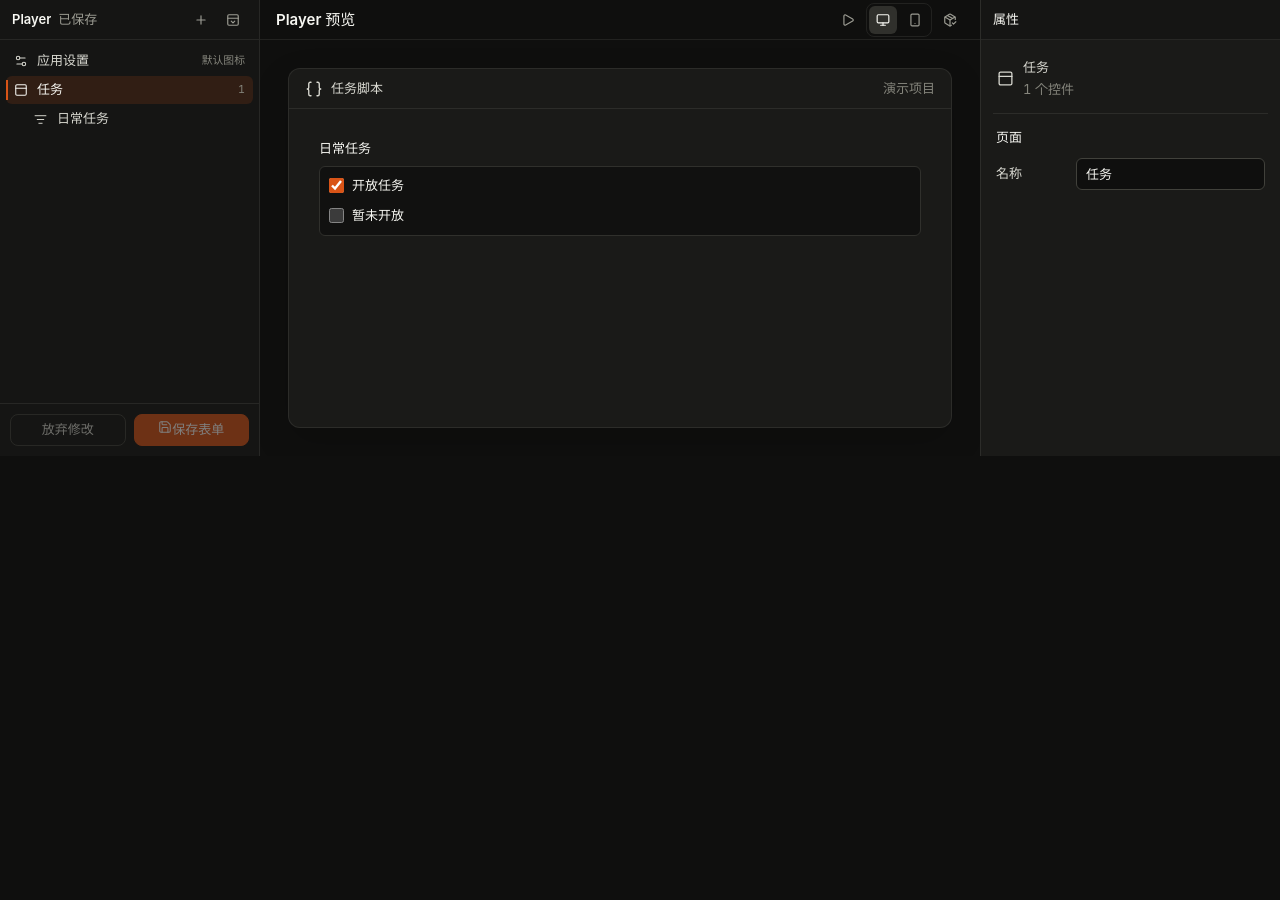
VNextPlayerWorkspace schema3 authoring › 布尔字典选项可在设计器中设为固定必选或固定不可选
Click the button with class "control-row" at [130, 119], box [6,105,253,133]
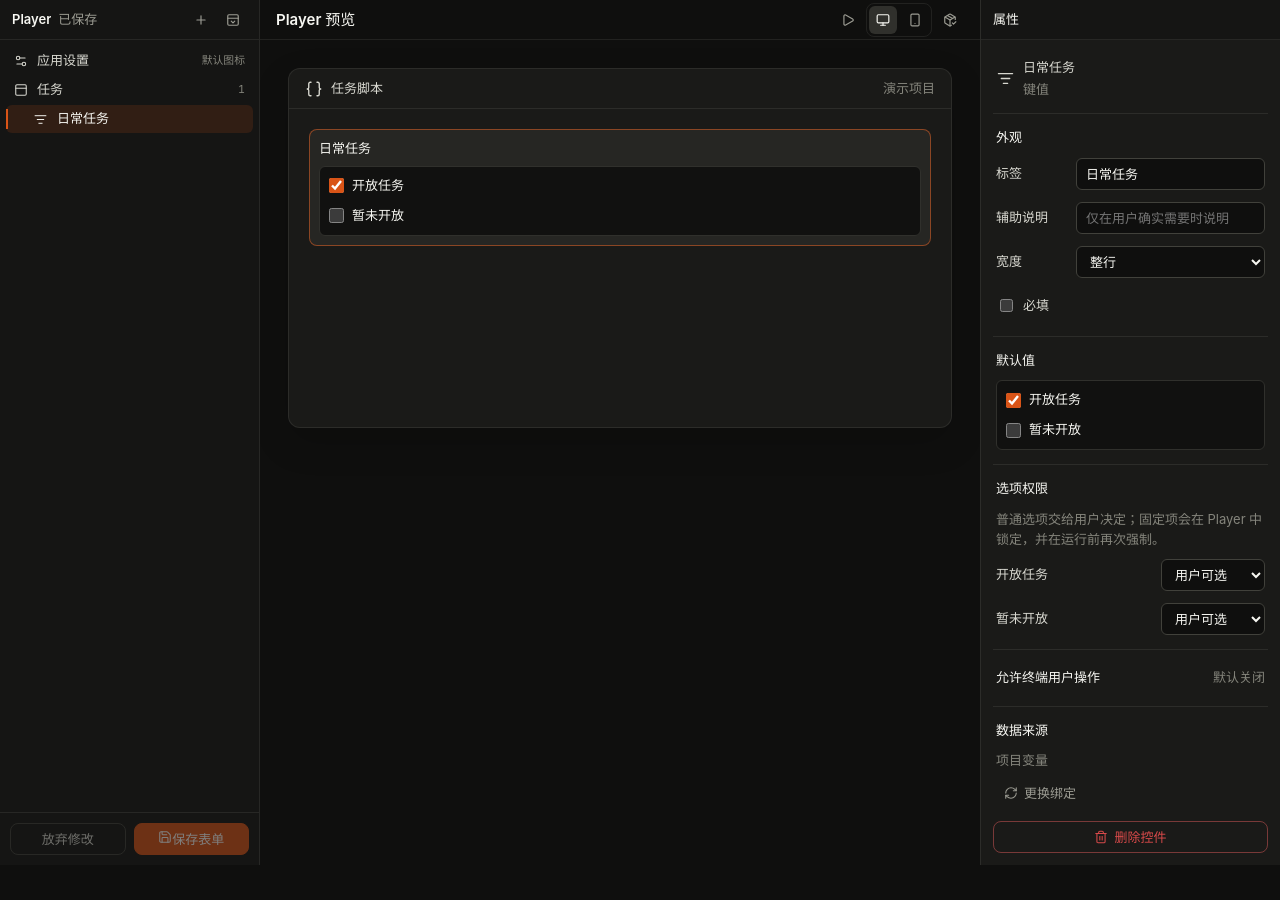
Select "固定不可选" in the dropdown labelled "暂未开放" at [1213, 619], box [1161,603,1265,635]
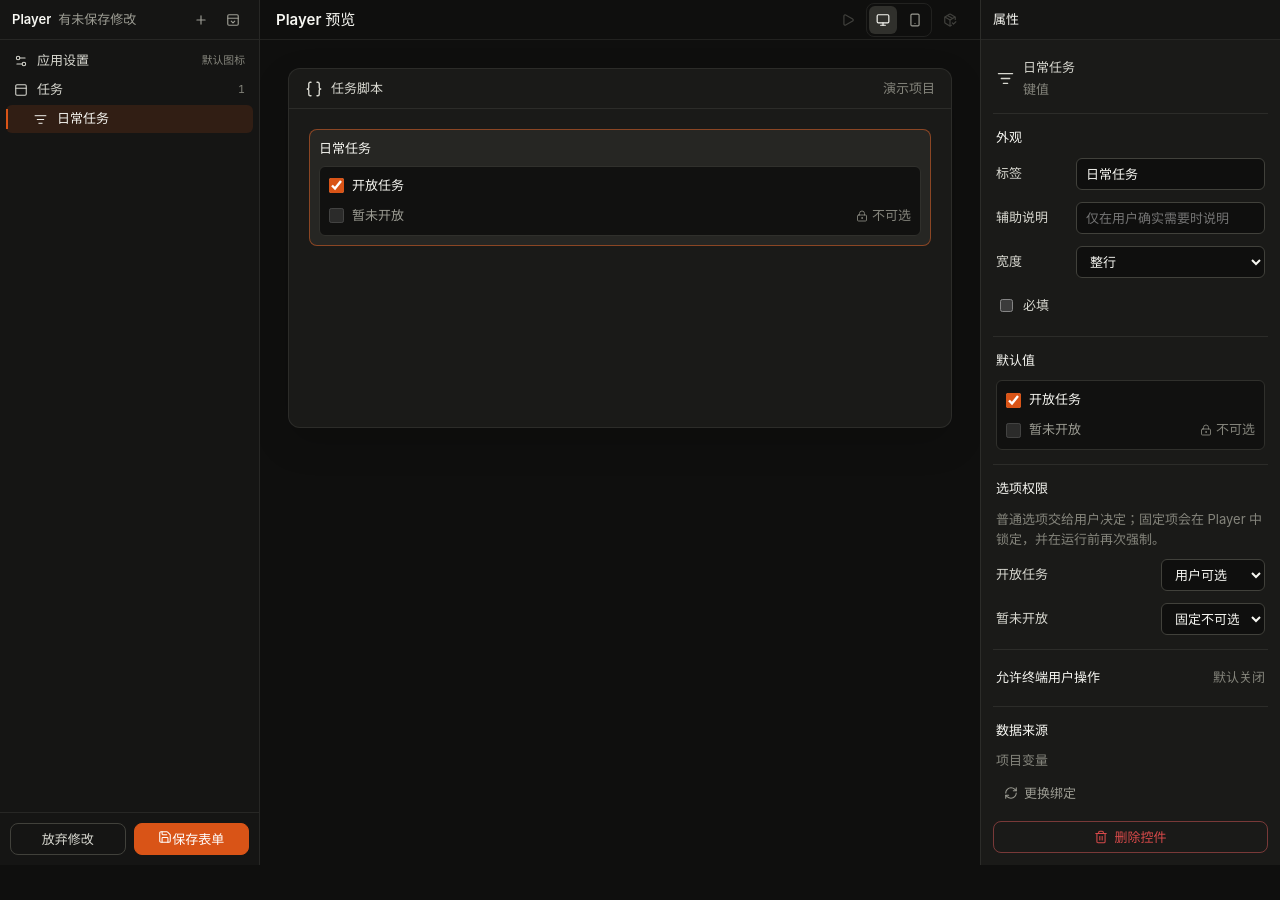
Expected: the label "日常任务 开放任务 暂未开放 不可选" is shown, [309,129,931,246]
